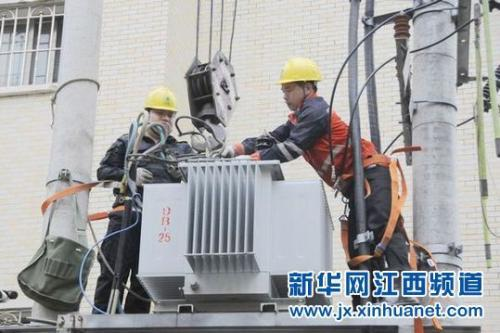helmet: (273, 54, 326, 112), (142, 84, 182, 132)
